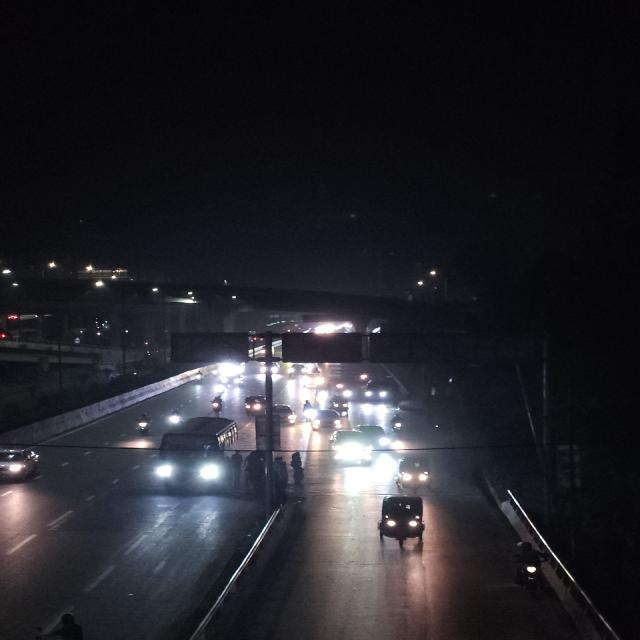bus: (157, 425, 224, 493)
car: (324, 430, 373, 469), (360, 378, 395, 406), (360, 422, 391, 453), (312, 410, 340, 436), (272, 402, 297, 428)
cng: (370, 489, 435, 548), (386, 458, 443, 495), (242, 395, 264, 418), (329, 395, 352, 416)
motorcycle: (507, 540, 553, 602), (0, 446, 41, 484), (129, 412, 154, 437), (159, 405, 183, 427), (388, 414, 409, 437), (205, 394, 227, 415), (299, 398, 313, 423), (190, 371, 208, 386)
pedestrian: (227, 449, 248, 491), (292, 451, 308, 487), (246, 450, 262, 484), (276, 456, 291, 491)
